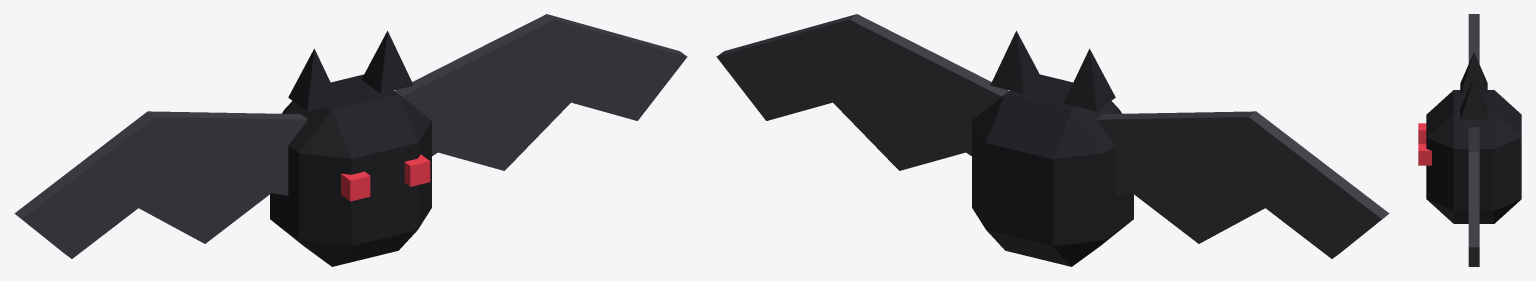
File: BatDecor.fbx
The picture shows the model from 3 angles, left to right: view 1: azimuth 30°, elevation 25°; view 2: azimuth 150°, elevation 25°; view 3: azimuth 270°, elevation 25°; orthographic projection. The views are drawn at different scales.
Visible parts, largest first — view 1: BatDecor; view 2: BatDecor; view 3: BatDecor.
Boxes of the visible parts, x1=… form: BatDecor: x1=14, y1=14, x2=687, y2=266; BatDecor: x1=716, y1=14, x2=1389, y2=266; BatDecor: x1=1418, y1=14, x2=1521, y2=266.
Bounding box in the file's own units: 4 × 1.2 × 0.76.
1 material, 1 textured.
